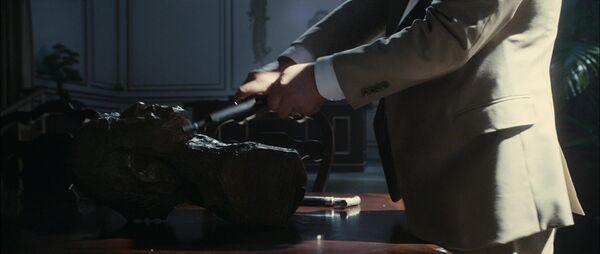Gun: (181, 94, 265, 137)
